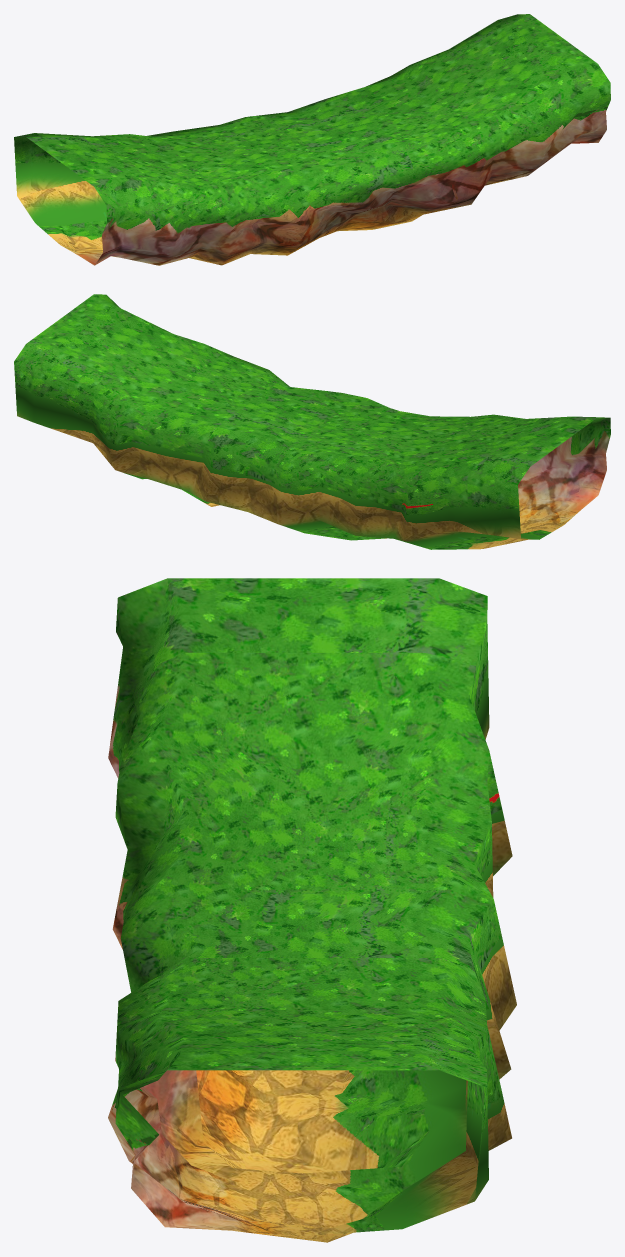
Rendered from DownHill.FBX.
3 views of the same model, one above another, from view 1: azimuth 30°, elevation 25°; view 2: azimuth 150°, elevation 25°; view 3: azimuth 270°, elevation 25° (orthographic). The views are drawn at different scales.
Parts seen in each view (by area): view 1: Object016; view 2: Object016; view 3: Object016.
Boxes of the visible parts, bbox=[...] form: Object016: bbox=[14, 14, 610, 265]; Object016: bbox=[14, 294, 610, 549]; Object016: bbox=[108, 578, 516, 1242].
Size of the model in its own units: 47.06 by 12.22 by 16.55.
